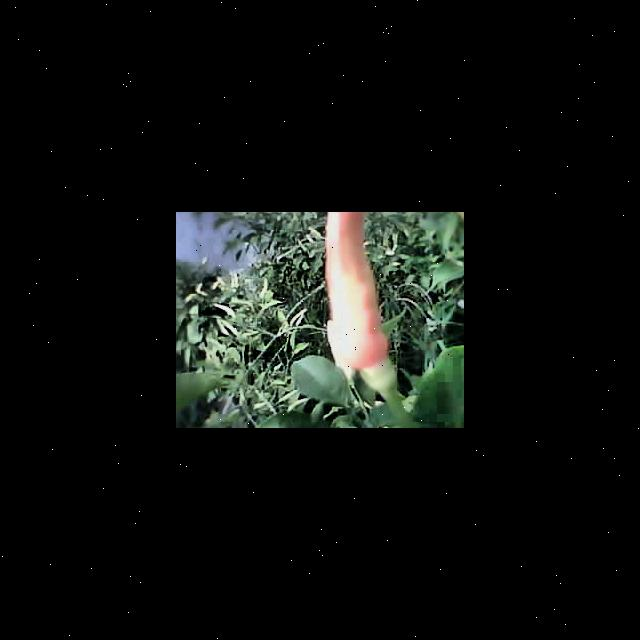Cabai: (323, 212, 398, 394)
